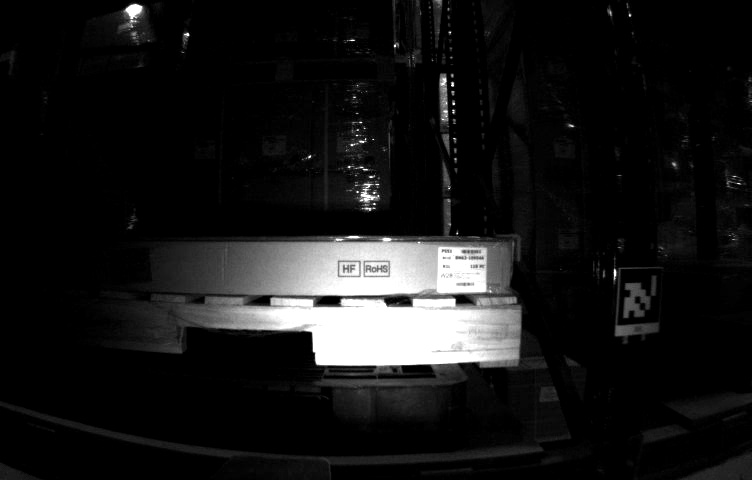True Barcode: (438, 245, 487, 297)
